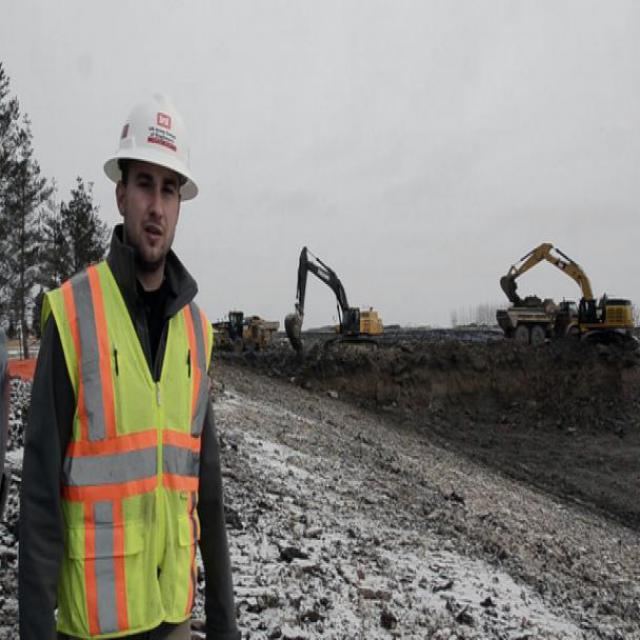helmet: (104, 75, 200, 265)
vest: (35, 252, 242, 639)
